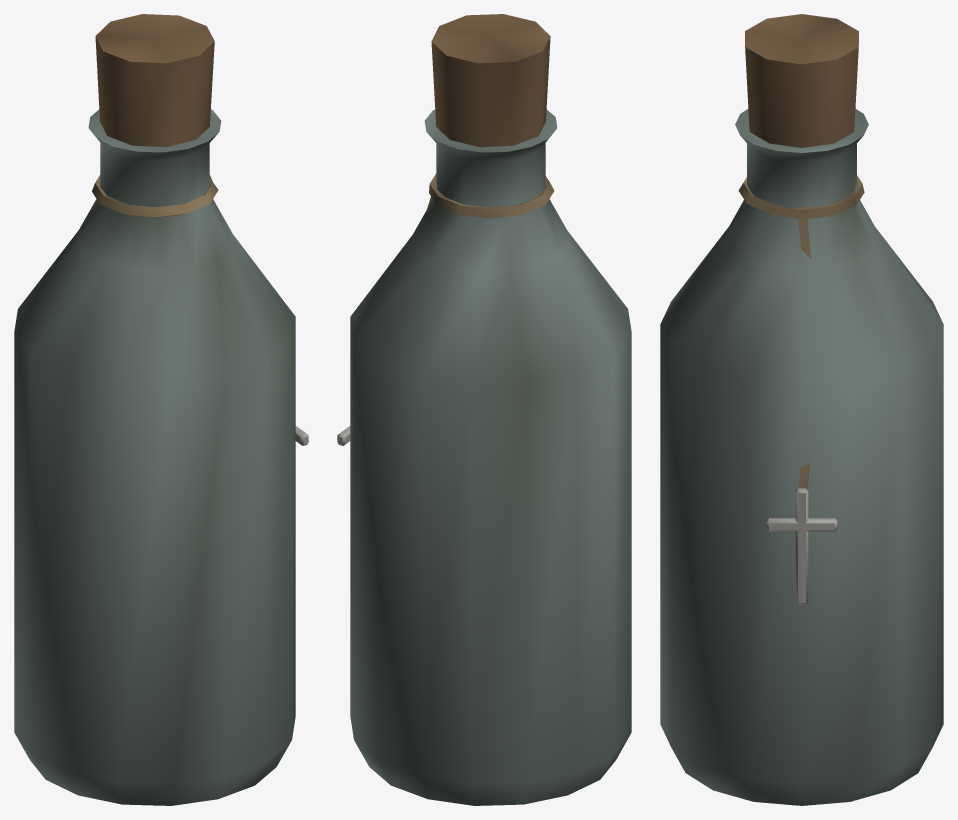
File: holy-water.glb
The picture shows the model from 3 angles, left to right: view 1: azimuth 30°, elevation 25°; view 2: azimuth 150°, elevation 25°; view 3: azimuth 270°, elevation 25°; orthographic projection.
Visible parts, largest first — view 1: holy-water; view 2: holy-water; view 3: holy-water.
Part boxes in pixels (x1,y1,x2,y2): holy-water: [14, 14, 308, 805]; holy-water: [337, 14, 631, 805]; holy-water: [660, 14, 943, 805].
Size of the model in its own units: 0.0381 by 0.1 by 0.036.
